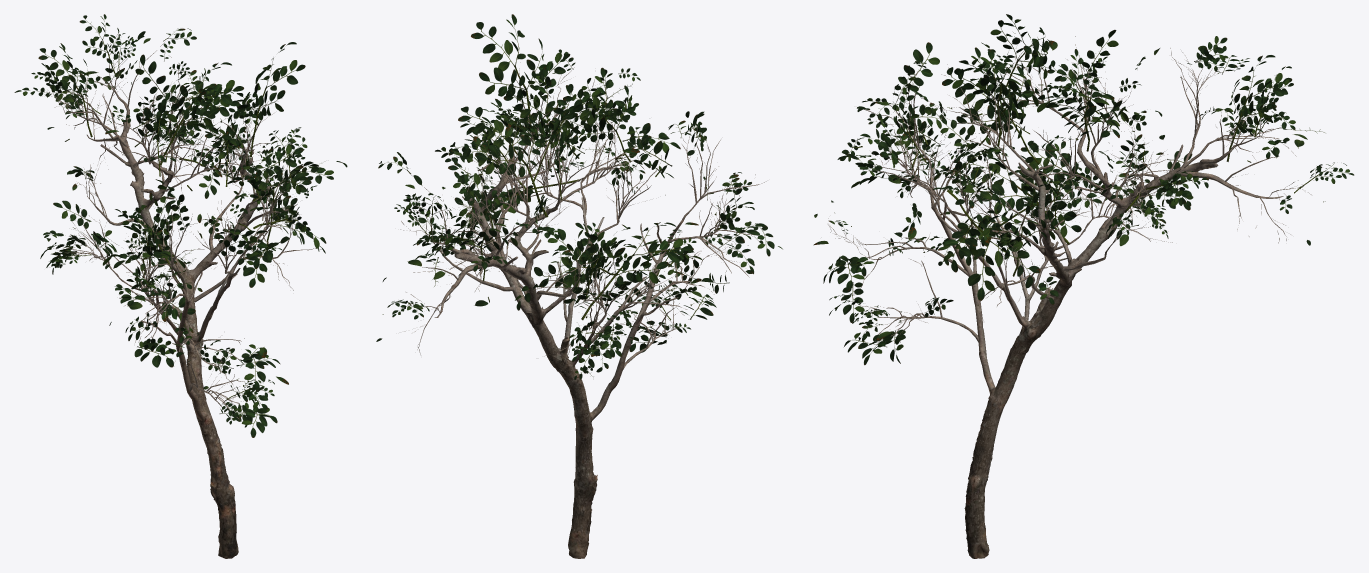
The model's file is garden_tree_ar.glb.
3 renders of one model, left to right at view 1: azimuth 30°, elevation 25°; view 2: azimuth 150°, elevation 25°; view 3: azimuth 270°, elevation 25°, orthographic. The views are drawn at different scales.
Visible parts, largest first — view 1: Tree_AR; view 2: Tree_AR; view 3: Tree_AR.
Boxes of the visible parts, x1,y1,x2,y2 form: Tree_AR: [14, 14, 347, 558]; Tree_AR: [376, 14, 782, 558]; Tree_AR: [813, 14, 1354, 558].
Bounding box in the file's own units: 1.64 × 3 × 2.74.
3 materials, 3 textured.
